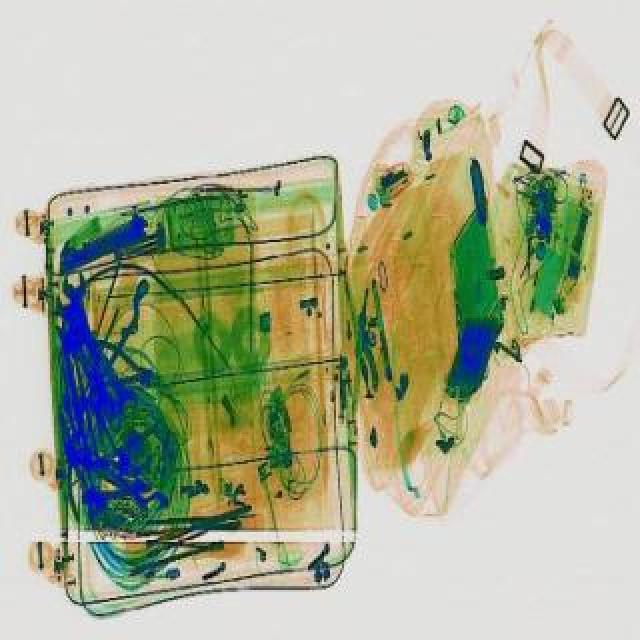scissors: (50, 292, 142, 422), (54, 318, 130, 438), (60, 276, 120, 424)
wrench: (46, 414, 98, 530), (86, 344, 170, 404)
